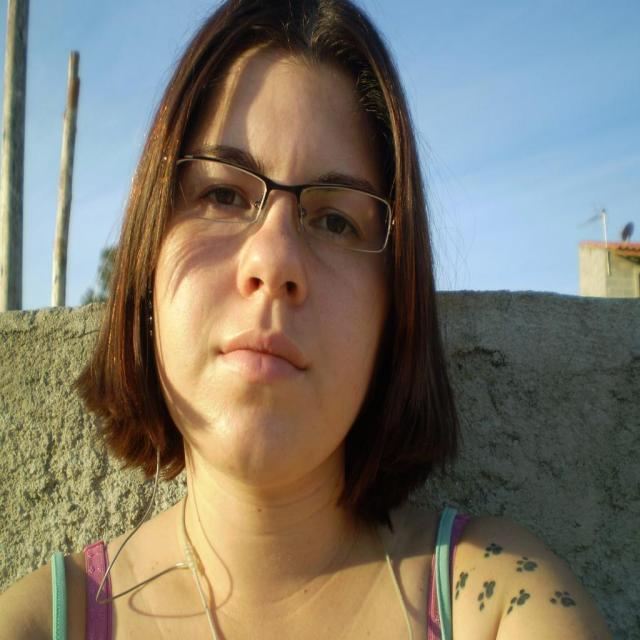no-glass: (191, 178, 363, 242)
